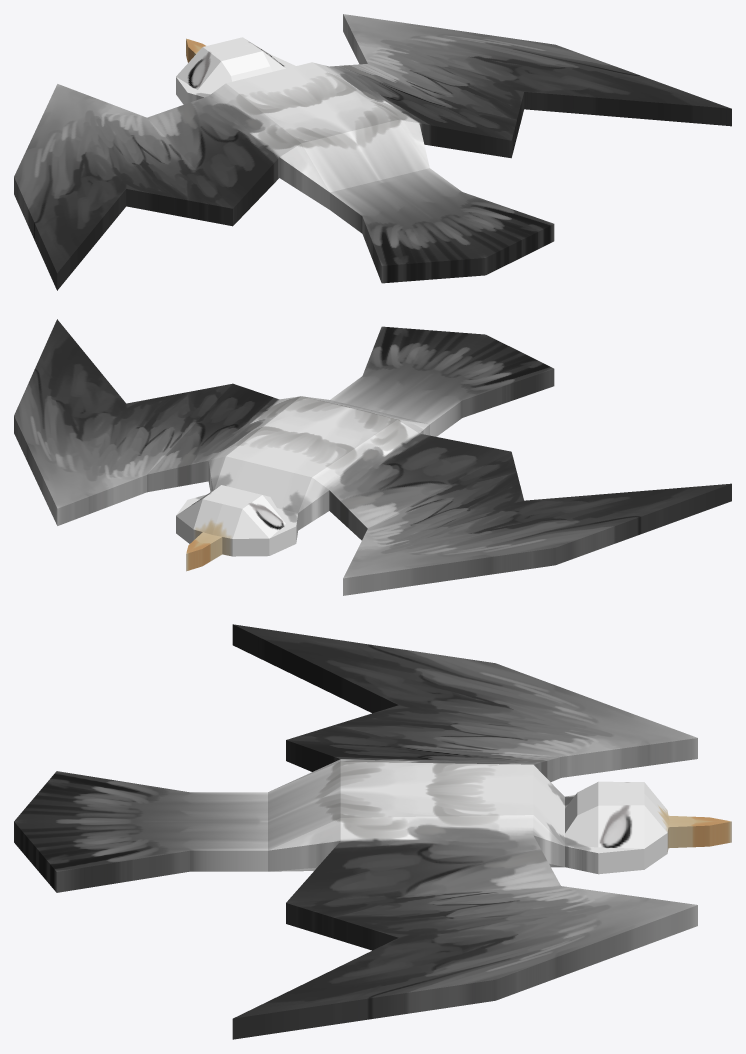
The model's file is Seagull03.fbx.
3 views of the same model, one above another, from view 1: azimuth 30°, elevation 25°; view 2: azimuth 150°, elevation 25°; view 3: azimuth 270°, elevation 25° (orthographic). The views are drawn at different scales.
Visible parts, largest first — view 1: Seagull03; view 2: Seagull03; view 3: Seagull03.
Boxes of the visible parts, x1,y1,x2,y2 form: Seagull03: [14, 14, 731, 290]; Seagull03: [14, 319, 731, 595]; Seagull03: [14, 624, 731, 1039].
Size of the model in its own units: 0.2924 by 0.0182 by 0.2249.
Materials: 1 (1 with a texture image).
